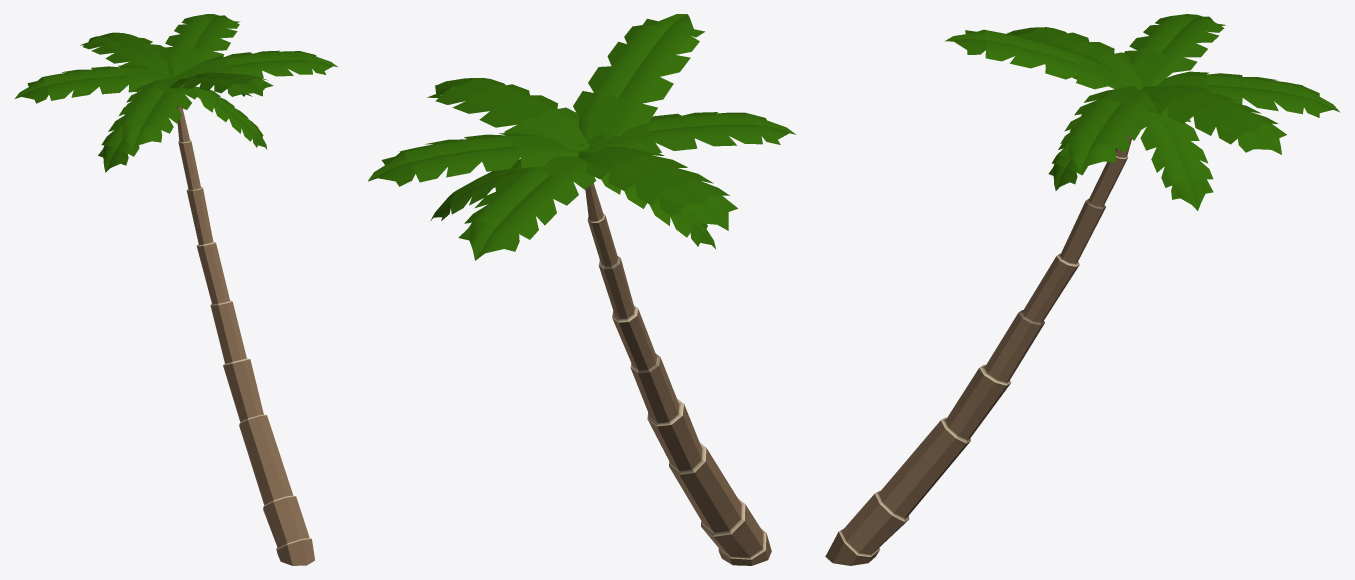
The model's file is Palmier_1.fbx.
3 renders of one model, left to right at view 1: azimuth 30°, elevation 25°; view 2: azimuth 150°, elevation 25°; view 3: azimuth 270°, elevation 25°, orthographic. The views are drawn at different scales.
Parts seen in each view (by area): view 1: Palmier_Grand; view 2: Palmier_Grand; view 3: Palmier_Grand.
Part boxes in pixels (x1=…): Palmier_Grand: x1=15, y1=14, x2=337, y2=565; Palmier_Grand: x1=368, y1=14, x2=795, y2=565; Palmier_Grand: x1=825, y1=14, x2=1340, y2=565.
Bounding box in the file's own units: 248 × 379 × 339.
